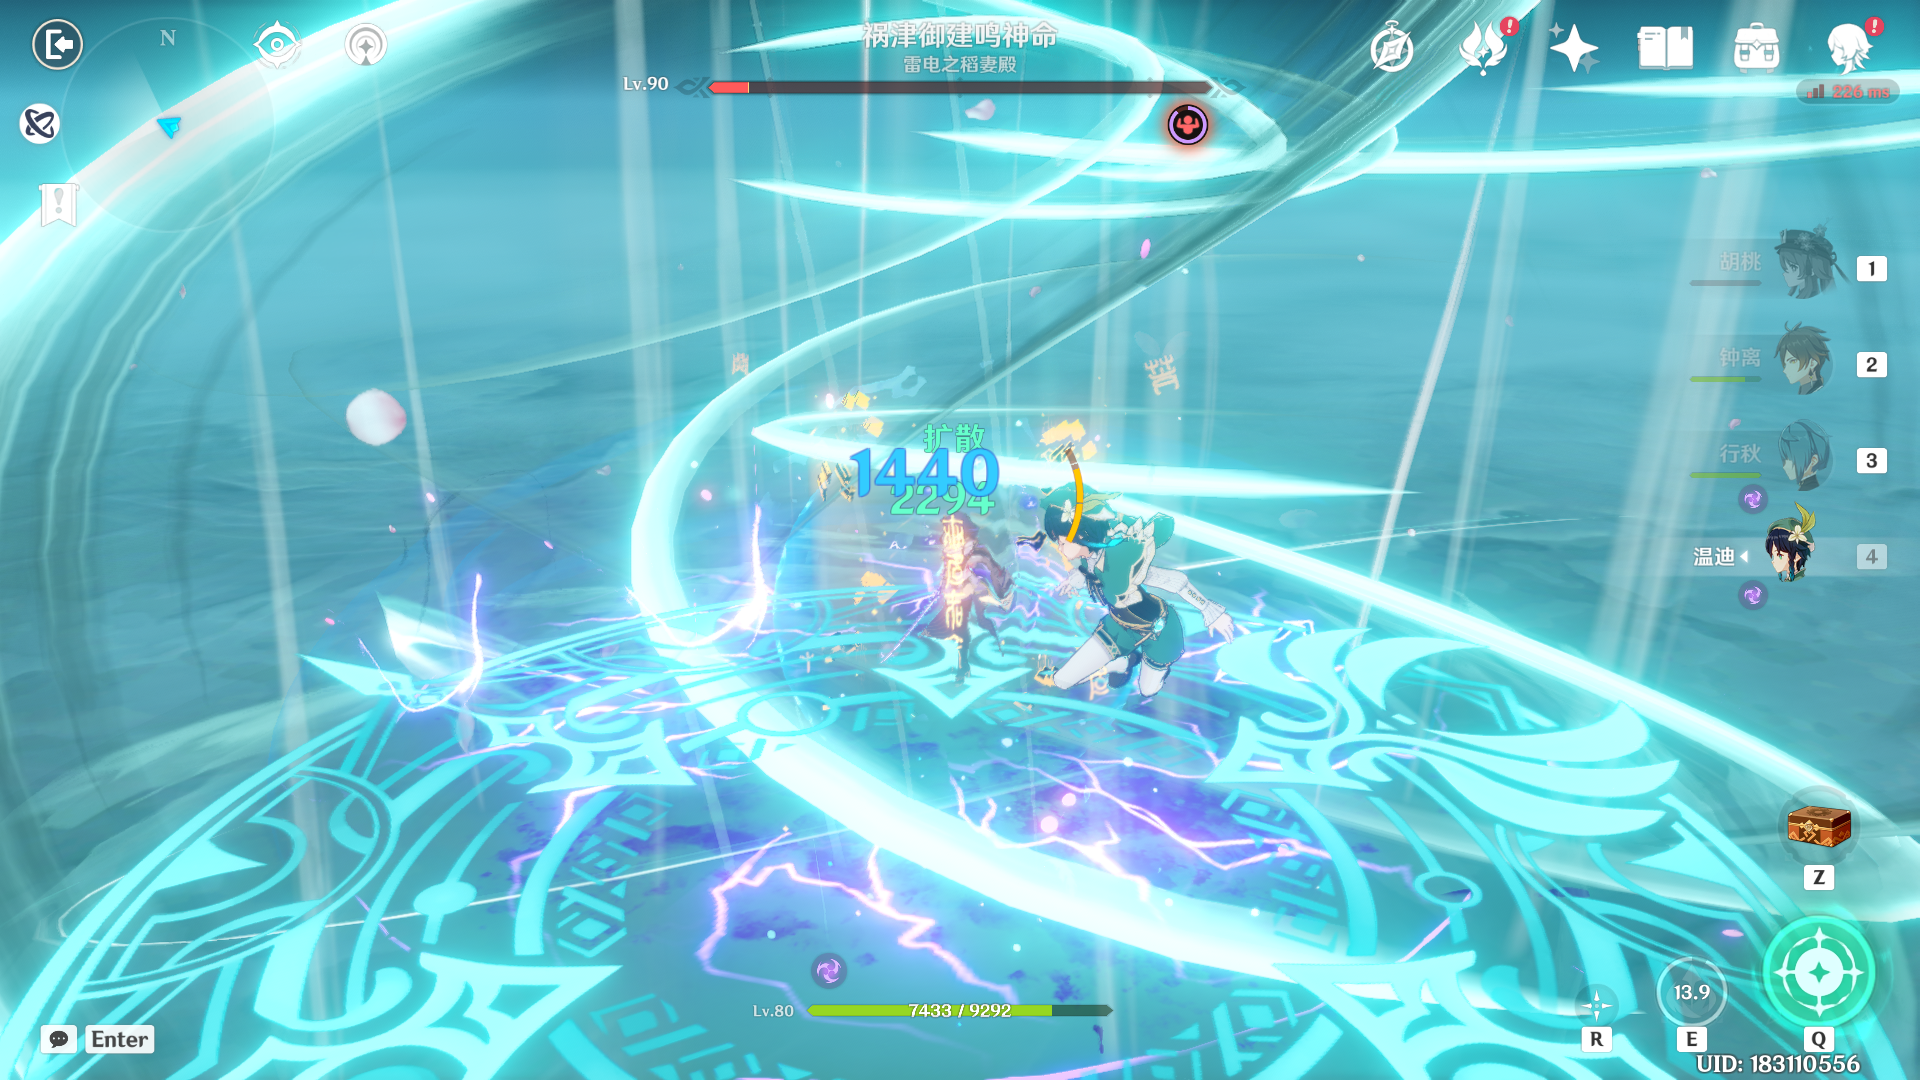character: (1007, 442, 1220, 771)
